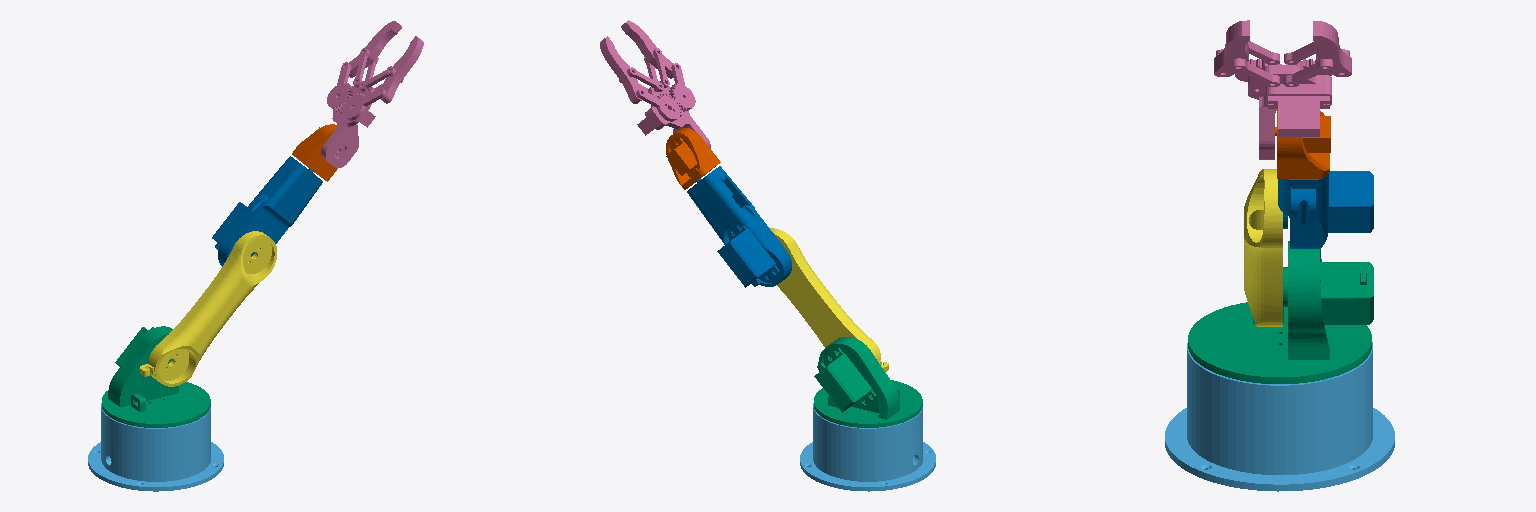
robot.urdf — robot_arm:
<?xml version="1.0" ?>
<!-- =================================================================================== -->
<!-- |    This document was autogenerated by xacro from /root/arm_project/arm_ws/src/robot_arm_description/urdf/robot_arm.xacro | -->
<!-- |    EDITING THIS FILE BY HAND IS NOT RECOMMENDED                                 | -->
<!-- =================================================================================== -->
<robot name="robot_arm">
    <transmission name="base_joint_tran">
        <type>transmission_interface/SimpleTransmission</type>
        <joint name="base_joint">
            <hardwareInterface>hardware_interface/EffortJointInterface</hardwareInterface>
        </joint>
        <actuator name="base_joint_actr">
            <hardwareInterface>hardware_interface/EffortJointInterface</hardwareInterface>
            <mechanicalReduction>1</mechanicalReduction>
        </actuator>
    </transmission>
    <transmission name="waist_joint_tran">
        <type>transmission_interface/SimpleTransmission</type>
        <joint name="waist_joint">
            <hardwareInterface>hardware_interface/EffortJointInterface</hardwareInterface>
        </joint>
        <actuator name="waist_joint_actr">
            <hardwareInterface>hardware_interface/EffortJointInterface</hardwareInterface>
            <mechanicalReduction>1</mechanicalReduction>
        </actuator>
    </transmission>
    <transmission name="arm1_joint_tran">
        <type>transmission_interface/SimpleTransmission</type>
        <joint name="arm1_joint">
            <hardwareInterface>hardware_interface/EffortJointInterface</hardwareInterface>
        </joint>
        <actuator name="arm1_joint_actr">
            <hardwareInterface>hardware_interface/EffortJointInterface</hardwareInterface>
            <mechanicalReduction>1</mechanicalReduction>
        </actuator>
    </transmission>
    <transmission name="arm2_joint_tran">
        <type>transmission_interface/SimpleTransmission</type>
        <joint name="arm2_joint">
            <hardwareInterface>hardware_interface/EffortJointInterface</hardwareInterface>
        </joint>
        <actuator name="arm2_joint_actr">
            <hardwareInterface>hardware_interface/EffortJointInterface</hardwareInterface>
            <mechanicalReduction>1</mechanicalReduction>
        </actuator>
    </transmission>
    <transmission name="arm3_joint_tran">
        <type>transmission_interface/SimpleTransmission</type>
        <joint name="arm3_joint">
            <hardwareInterface>hardware_interface/EffortJointInterface</hardwareInterface>
        </joint>
        <actuator name="arm3_joint_actr">
            <hardwareInterface>hardware_interface/EffortJointInterface</hardwareInterface>
            <mechanicalReduction>1</mechanicalReduction>
        </actuator>
    </transmission>
    <gazebo>
        <plugin filename="libgazebo_ros_control.so" name="control">
            <robotNamespace>/robot_arm</robotNamespace>
        </plugin>
        <plugin name="gazebo_ros_control">
            <robotNamespace>/</robotNamespace>
        </plugin>
    </gazebo>
    <gazebo reference="base_link">
        <material>Gazebo/Orange</material>
        <mu1>0.2</mu1>
        <mu2>0.2</mu2>
        <selfCollide>true</selfCollide>
        <gravity>true</gravity>
    </gazebo>
    <gazebo reference="waist_1">
        <material>Gazebo/Orange</material>
        <mu1>0.2</mu1>
        <mu2>0.2</mu2>
        <selfCollide>true</selfCollide>
    </gazebo>
    <gazebo reference="arm1_1">
        <material>Gazebo/Orange</material>
        <mu1>0.2</mu1>
        <mu2>0.2</mu2>
        <selfCollide>true</selfCollide>
    </gazebo>
    <gazebo reference="arm2_1">
        <material>Gazebo/Orange</material>
        <mu1>0.2</mu1>
        <mu2>0.2</mu2>
        <selfCollide>true</selfCollide>
    </gazebo>
    <gazebo reference="arm3_1">
        <material>Gazebo/Orange</material>
        <mu1>0.2</mu1>
        <mu2>0.2</mu2>
        <selfCollide>true</selfCollide>
    </gazebo>
    <gazebo reference="gripper_1">
        <material>Gazebo/White</material>
        <mu1>0.2</mu1>
        <mu2>0.2</mu2>
        <selfCollide>true</selfCollide>
    </gazebo>
    <gazebo reference="gripper_2">
        <material>Gazebo/White</material>
        <mu1>0.2</mu1>
        <mu2>0.2</mu2>
        <selfCollide>true</selfCollide>
    </gazebo>
    <link name="world" />
    <link name="base_link">
        <inertial>
            <origin rpy="0 0 0" xyz="0.0024607011550564013 6.455733015215033e-10 0.0241964579063244" />
            <mass value="0.13769209908471902" />
            <!--<inertia ixx="0.000143" iyy="0.00016" izz="0.000229" ixy="-0.0" iyz="0.0" ixz="-6e-06"/>-->
            <inertia ixx="0" ixy="0" ixz="0" iyy="0" iyz="0" izz="0" />
        </inertial>
        <visual>
            <origin rpy="0 0 0" xyz="0 0 0" />
            <geometry>
                <mesh filename="package://robot_arm_description/meshes/base_link.stl" scale="0.001 0.001 0.001" />
            </geometry>
        </visual>
        <collision>
            <origin rpy="0 0 0" xyz="0 0 0" />
            <geometry>
                <mesh filename="package://robot_arm_description/meshes/base_link.stl" scale="0.001 0.001 0.001" />
            </geometry>
        </collision>
    </link>
    <link name="waist_1">
        <inertial>
            <origin rpy="0 0 0" xyz="0.00318602649091635 0.013877747356906538 0.022689548276635066" />
            <mass value="0.10800159155411357" />
            <inertia ixx="7.4e-05" ixy="-3e-06" ixz="-1.1e-05" iyy="7.5e-05" iyz="-1.4e-05" izz="7.9e-05" />
        </inertial>
        <visual>
            <origin rpy="0 0 0" xyz="0.0 -0.0 -0.0566" />
            <geometry>
                <mesh filename="package://robot_arm_description/meshes/waist_1.stl" scale="0.001 0.001 0.001" />
            </geometry>
        </visual>
        <collision>
            <origin rpy="0 0 0" xyz="0.0 -0.0 -0.0566" />
            <geometry>
                <mesh filename="package://robot_arm_description/meshes/waist_1.stl" scale="0.001 0.001 0.001" />
            </geometry>
        </collision>
    </link>
    <link name="arm1_1">
        <inertial>
            <origin rpy="0 0 0" xyz="0.04133751613396197 -0.007768202679351965 0.04152238032046518" />
            <mass value="0.505446604180645" />
            <inertia ixx="0.000463" ixy="-1e-06" ixz="-0.000396" iyy="0.000903" iyz="-1e-06" izz="0.000474" />
        </inertial>
        <visual>
            <origin rpy="0 0 0" xyz="-0.013742 -0.0018 -0.097053" />
            <geometry>
                <mesh filename="package://robot_arm_description/meshes/arm1_1.stl" scale="0.001 0.001 0.001" />
            </geometry>
        </visual>
        <collision>
            <origin rpy="0 0 0" xyz="-0.013742 -0.0018 -0.097053" />
            <geometry>
                <mesh filename="package://robot_arm_description/meshes/arm1_1.stl" scale="0.001 0.001 0.001" />
            </geometry>
        </collision>
    </link>
    <link name="arm2_1">
        <inertial>
            <origin rpy="0 0 0" xyz="0.021875310017626437 0.01671146992191255 0.022052083955411417" />
            <mass value="0.09671321602707647" />
            <inertia ixx="6.6e-05" ixy="8e-06" ixz="-4.3e-05" iyy="0.000103" iyz="8e-06" izz="6.6e-05" />
        </inertial>
        <visual>
            <origin rpy="0 0 0" xyz="-0.098595 -0.0018 -0.181906" />
            <geometry>
                <mesh filename="package://robot_arm_description/meshes/arm2_1.stl" scale="0.001 0.001 0.001" />
            </geometry>
        </visual>
        <collision>
            <origin rpy="0 0 0" xyz="-0.098595 -0.0018 -0.181906" />
            <geometry>
                <mesh filename="package://robot_arm_description/meshes/arm2_1.stl" scale="0.001 0.001 0.001" />
            </geometry>
        </collision>
    </link>
    <link name="arm3_1">
        <inertial>
            <origin rpy="0 0 0" xyz="0.010225315136705243 -0.0030655198679682485 0.017341165454192953" />
            <mass value="0.025038543338458022" />
            <inertia ixx="4e-06" ixy="0.0" ixz="-1e-06" iyy="6e-06" iyz="0.0" izz="4e-06" />
        </inertial>
        <visual>
            <origin rpy="0 0 0" xyz="-0.166936 -0.0125 -0.243106" />
            <geometry>
                <mesh filename="package://robot_arm_description/meshes/arm3_1.stl" scale="0.001 0.001 0.001" />
            </geometry>
        </visual>
        <collision>
            <origin rpy="0 0 0" xyz="-0.166936 -0.0125 -0.243106" />
            <geometry>
                <mesh filename="package://robot_arm_description/meshes/arm3_1.stl" scale="0.001 0.001 0.001" />
            </geometry>
        </collision>
    </link>
    <link name="gripper_1">
        <inertial>
            <origin rpy="0 0 0" xyz="0.028485280332901375 0.004846546679879509 0.04072672947992795" />
            <mass value="0.044561931204964" />
            <inertia ixx="4.2e-05" ixy="-1e-06" ixz="-2e-05" iyy="4.7e-05" iyz="-1e-06" izz="3.1e-05" />
        </inertial>
        <visual>
            <origin rpy="0 0 0" xyz="-0.1832 0.00285 -0.266441" />
            <geometry>
                <mesh filename="package://robot_arm_description/meshes/gripper_1.stl" scale="0.001 0.001 0.001" />
            </geometry>
        </visual>
        <collision>
            <origin rpy="0 0 0" xyz="-0.1832 0.00285 -0.266441" />
            <geometry>
                <mesh filename="package://robot_arm_description/meshes/gripper_1.stl" scale="0.001 0.001 0.001" />
            </geometry>
        </collision>
    </link>
    <!--<link name="gripper_2">
  <inertial>
    <origin xyz="0.04 0.0 0.05" rpy="0 0 0"/>
    <mass value="0.0"/>
    <inertia ixx="0" iyy="0" izz="0" ixy="0" iyz="0" ixz="0"/>
  </inertial>
  <visual>
    <origin xyz="0.04 0.0 0.05" rpy="0 0 0"/>
    <geometry>
      <sphere radius="0.00"/>
    </geometry>
  </visual>
  <collision>
    <origin xyz="0.04 0.0 0.05" rpy="0 0 0"/>
    <geometry>
      <sphere radius="0.00"/>
    </geometry>
  </collision>
</link>-->
    <joint name="base_joint" type="revolute">
        <origin rpy="0 0 0" xyz="0.0 0.0 0.0566" />
        <parent link="base_link" />
        <child link="waist_1" />
        <axis xyz="-0.0 0.0 1.0" />
        <limit effort="1.075" lower="-1.570796" upper="1.570796" velocity="6" />
    </joint>
    <joint name="waist_joint" type="revolute">
        <origin rpy="0 0 0" xyz="0.013742 0.0018 0.040453" />
        <parent link="waist_1" />
        <child link="arm1_1" />
        <axis xyz="0.0 -1.0 0.0" />
        <limit effort="1.075" lower="-1.27409" upper="1.570796" velocity="6" />
    </joint>
    <joint name="arm1_joint" type="revolute">
        <origin rpy="0 0 0" xyz="0.084853 0.0 0.084853" />
        <parent link="arm1_1" />
        <child link="arm2_1" />
        <axis xyz="-0.0 1.0 -0.0" />
        <limit effort="1.075" lower="-1.570796" upper="1.570796" velocity="6" />
    </joint>
    <joint name="arm2_joint" type="revolute">
        <origin rpy="0 0 0" xyz="0.068341 0.0107 0.0612" />
        <parent link="arm2_1" />
        <child link="arm3_1" />
        <axis xyz="0.707107 0.0 0.707107" />
        <limit effort="1.075" lower="-1.570796" upper="1.570796" velocity="6" />
    </joint>
    <joint name="arm3_joint" type="revolute">
        <origin rpy="0 0 0" xyz="0.016264 -0.01535 0.023335" />
        <parent link="arm3_1" />
        <child link="gripper_1" />
        <axis xyz="-0.0 -1.0 0.0" />
        <limit effort="1.075" lower="-1.570796" upper="1.570796" velocity="6" />
    </joint>
    <joint name="fixed" type="fixed">
        <parent link="world" />
        <child link="base_link" />
        <origin rpy="0 0 0" xyz="0.0 0.0 0.0" />
    </joint>
    <!--<joint name="fixed2" type="fixed">
    <origin xyz="0.076264 0.005 0.093335" rpy="0 0 0"/>
    <parent link="gripper_1"/>
    <child link="gripper_2"/>
    <axis xyz="-0.0 -1.0 0.0"/>
</joint>-->
</robot>

--- Render facts (derived) ---
3 views of the same robot in one strip: view 1: azimuth 30°, elevation 25°; view 2: azimuth 150°, elevation 25°; view 3: azimuth 270°, elevation 25° (orthographic).
Robot: robot_arm — 7 links, 6 joints (5 revolute, 1 fixed); root link world; default pose: every joint at zero.
Visible links, largest first — view 1: base_link, arm1_1, waist_1, gripper_1, arm2_1, arm3_1; view 2: base_link, waist_1, arm2_1, gripper_1, arm1_1, arm3_1; view 3: base_link, waist_1, gripper_1, arm2_1, arm1_1, arm3_1.
Boxes of the visible links, x1,y1,x2,y2 form: base_link: (88,403,223,491); arm1_1: (140,231,276,386); waist_1: (102,326,210,427); gripper_1: (321,21,423,167); arm2_1: (212,156,322,266); arm3_1: (292,124,337,181); base_link: (800,403,935,491); waist_1: (814,337,922,427); arm2_1: (687,166,791,287); gripper_1: (600,20,710,148); arm1_1: (770,228,888,372); arm3_1: (666,128,720,189); base_link: (1165,342,1394,491); waist_1: (1188,241,1373,383); gripper_1: (1214,20,1351,159); arm2_1: (1278,171,1373,248); arm1_1: (1244,169,1282,326); arm3_1: (1275,109,1330,178).
Bounding box of the posed robot: 0.324 × 0.1212 × 0.3654 m (x, y, z).
Meshes: 6 distinct files referenced, 6 mesh visuals loaded (6 binary STL).